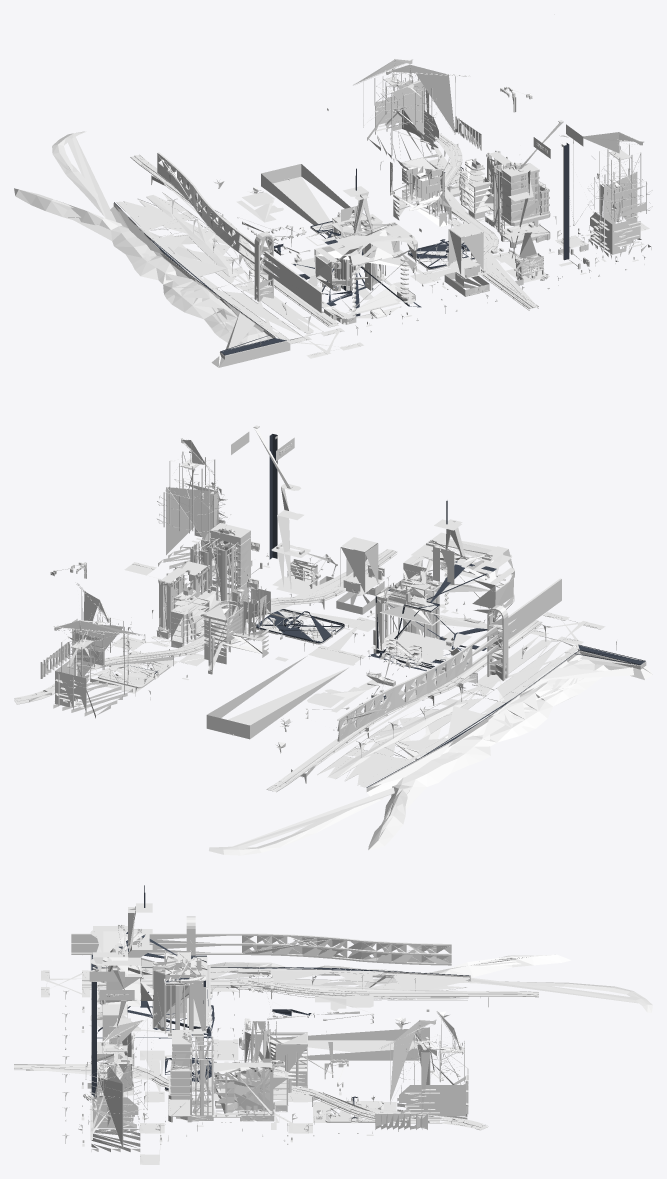
File: street_island1_02.glb
3 renders of one model, top to bottom at view 1: azimuth 30°, elevation 25°; view 2: azimuth 150°, elevation 25°; view 3: azimuth 270°, elevation 25°, orthographic. The views are drawn at different scales.
Visible parts, largest first — view 1: seg_696, seg_678, seg_619, seg_1161, seg_620, seg_488, seg_622, seg_1409, seg_655, seg_434, seg_1348, seg_1383 (+28 smaller); view 2: seg_696, seg_678, seg_619, seg_488, seg_620, seg_1161, seg_622, seg_434, seg_1391, seg_1409, seg_1348, seg_1361 (+24 smaller); view 3: seg_696, seg_678, seg_488, seg_1319, seg_619, seg_1161, seg_557, seg_1361, seg_1362, seg_434, seg_620, seg_489 (+30 smaller).
Part boxes in pixels (<box>): seg_696: <box>110,192,323,367</box>; seg_678: <box>14,131,272,347</box>; seg_619: <box>559,132,652,249</box>; seg_1161: <box>316,186,416,266</box>; seg_620: <box>353,59,469,155</box>; seg_488: <box>261,164,354,236</box>; seg_622: <box>354,59,455,165</box>; seg_1409: <box>314,232,417,316</box>; seg_655: <box>501,163,550,226</box>; seg_434: <box>393,157,452,227</box>; seg_1348: <box>238,232,323,313</box>; seg_1383: <box>459,159,491,214</box>; seg_696: <box>317,635,652,796</box>; seg_678: <box>209,653,609,855</box>; seg_619: <box>156,438,227,554</box>; seg_488: <box>206,656,348,739</box>; seg_620: <box>53,582,143,712</box>; seg_1161: <box>405,519,513,584</box>; seg_622: <box>53,590,142,718</box>; seg_434: <box>203,586,270,666</box>; seg_1391: <box>190,538,238,614</box>; seg_1409: <box>403,555,514,621</box>; seg_1348: <box>471,578,561,665</box>; seg_1361: <box>404,644,472,703</box>; seg_696: <box>90,955,470,1000</box>; seg_678: <box>207,954,652,1012</box>; seg_488: <box>239,1027,429,1060</box>; seg_1319: <box>212,1061,274,1117</box>; seg_619: <box>89,1013,156,1147</box>; seg_1161: <box>90,903,152,979</box>; seg_557: <box>152,956,205,1034</box>; seg_1361: <box>242,933,347,959</box>; seg_1362: <box>346,938,451,965</box>; seg_434: <box>241,1021,307,1088</box>; seg_620: <box>381,1011,468,1116</box>; seg_489: <box>399,1076,465,1116</box>.
Bounding box in the file's own units: 437 × 195 × 517.
